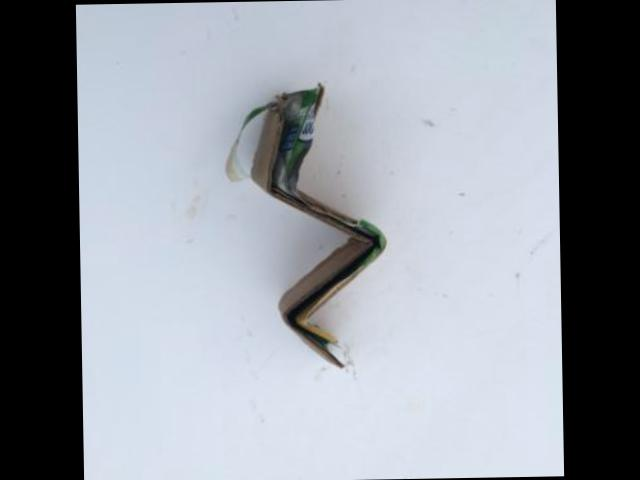cardboard paper: (229, 85, 387, 367)
